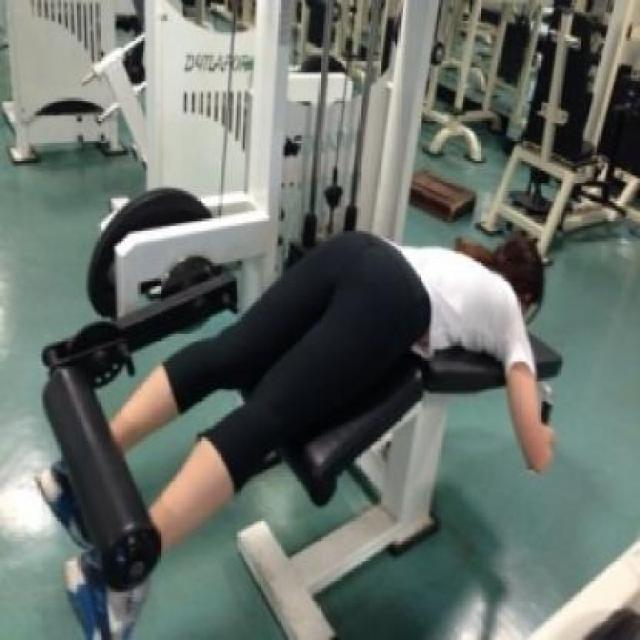reg curl machine: (36, 0, 566, 640)
